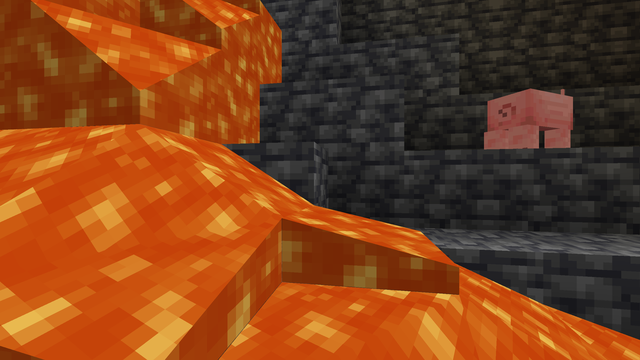cochons: (496, 85, 586, 144)
